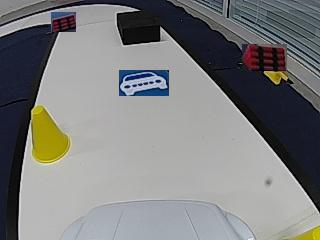block: (116, 10, 159, 44)
cone: (29, 107, 71, 164)
